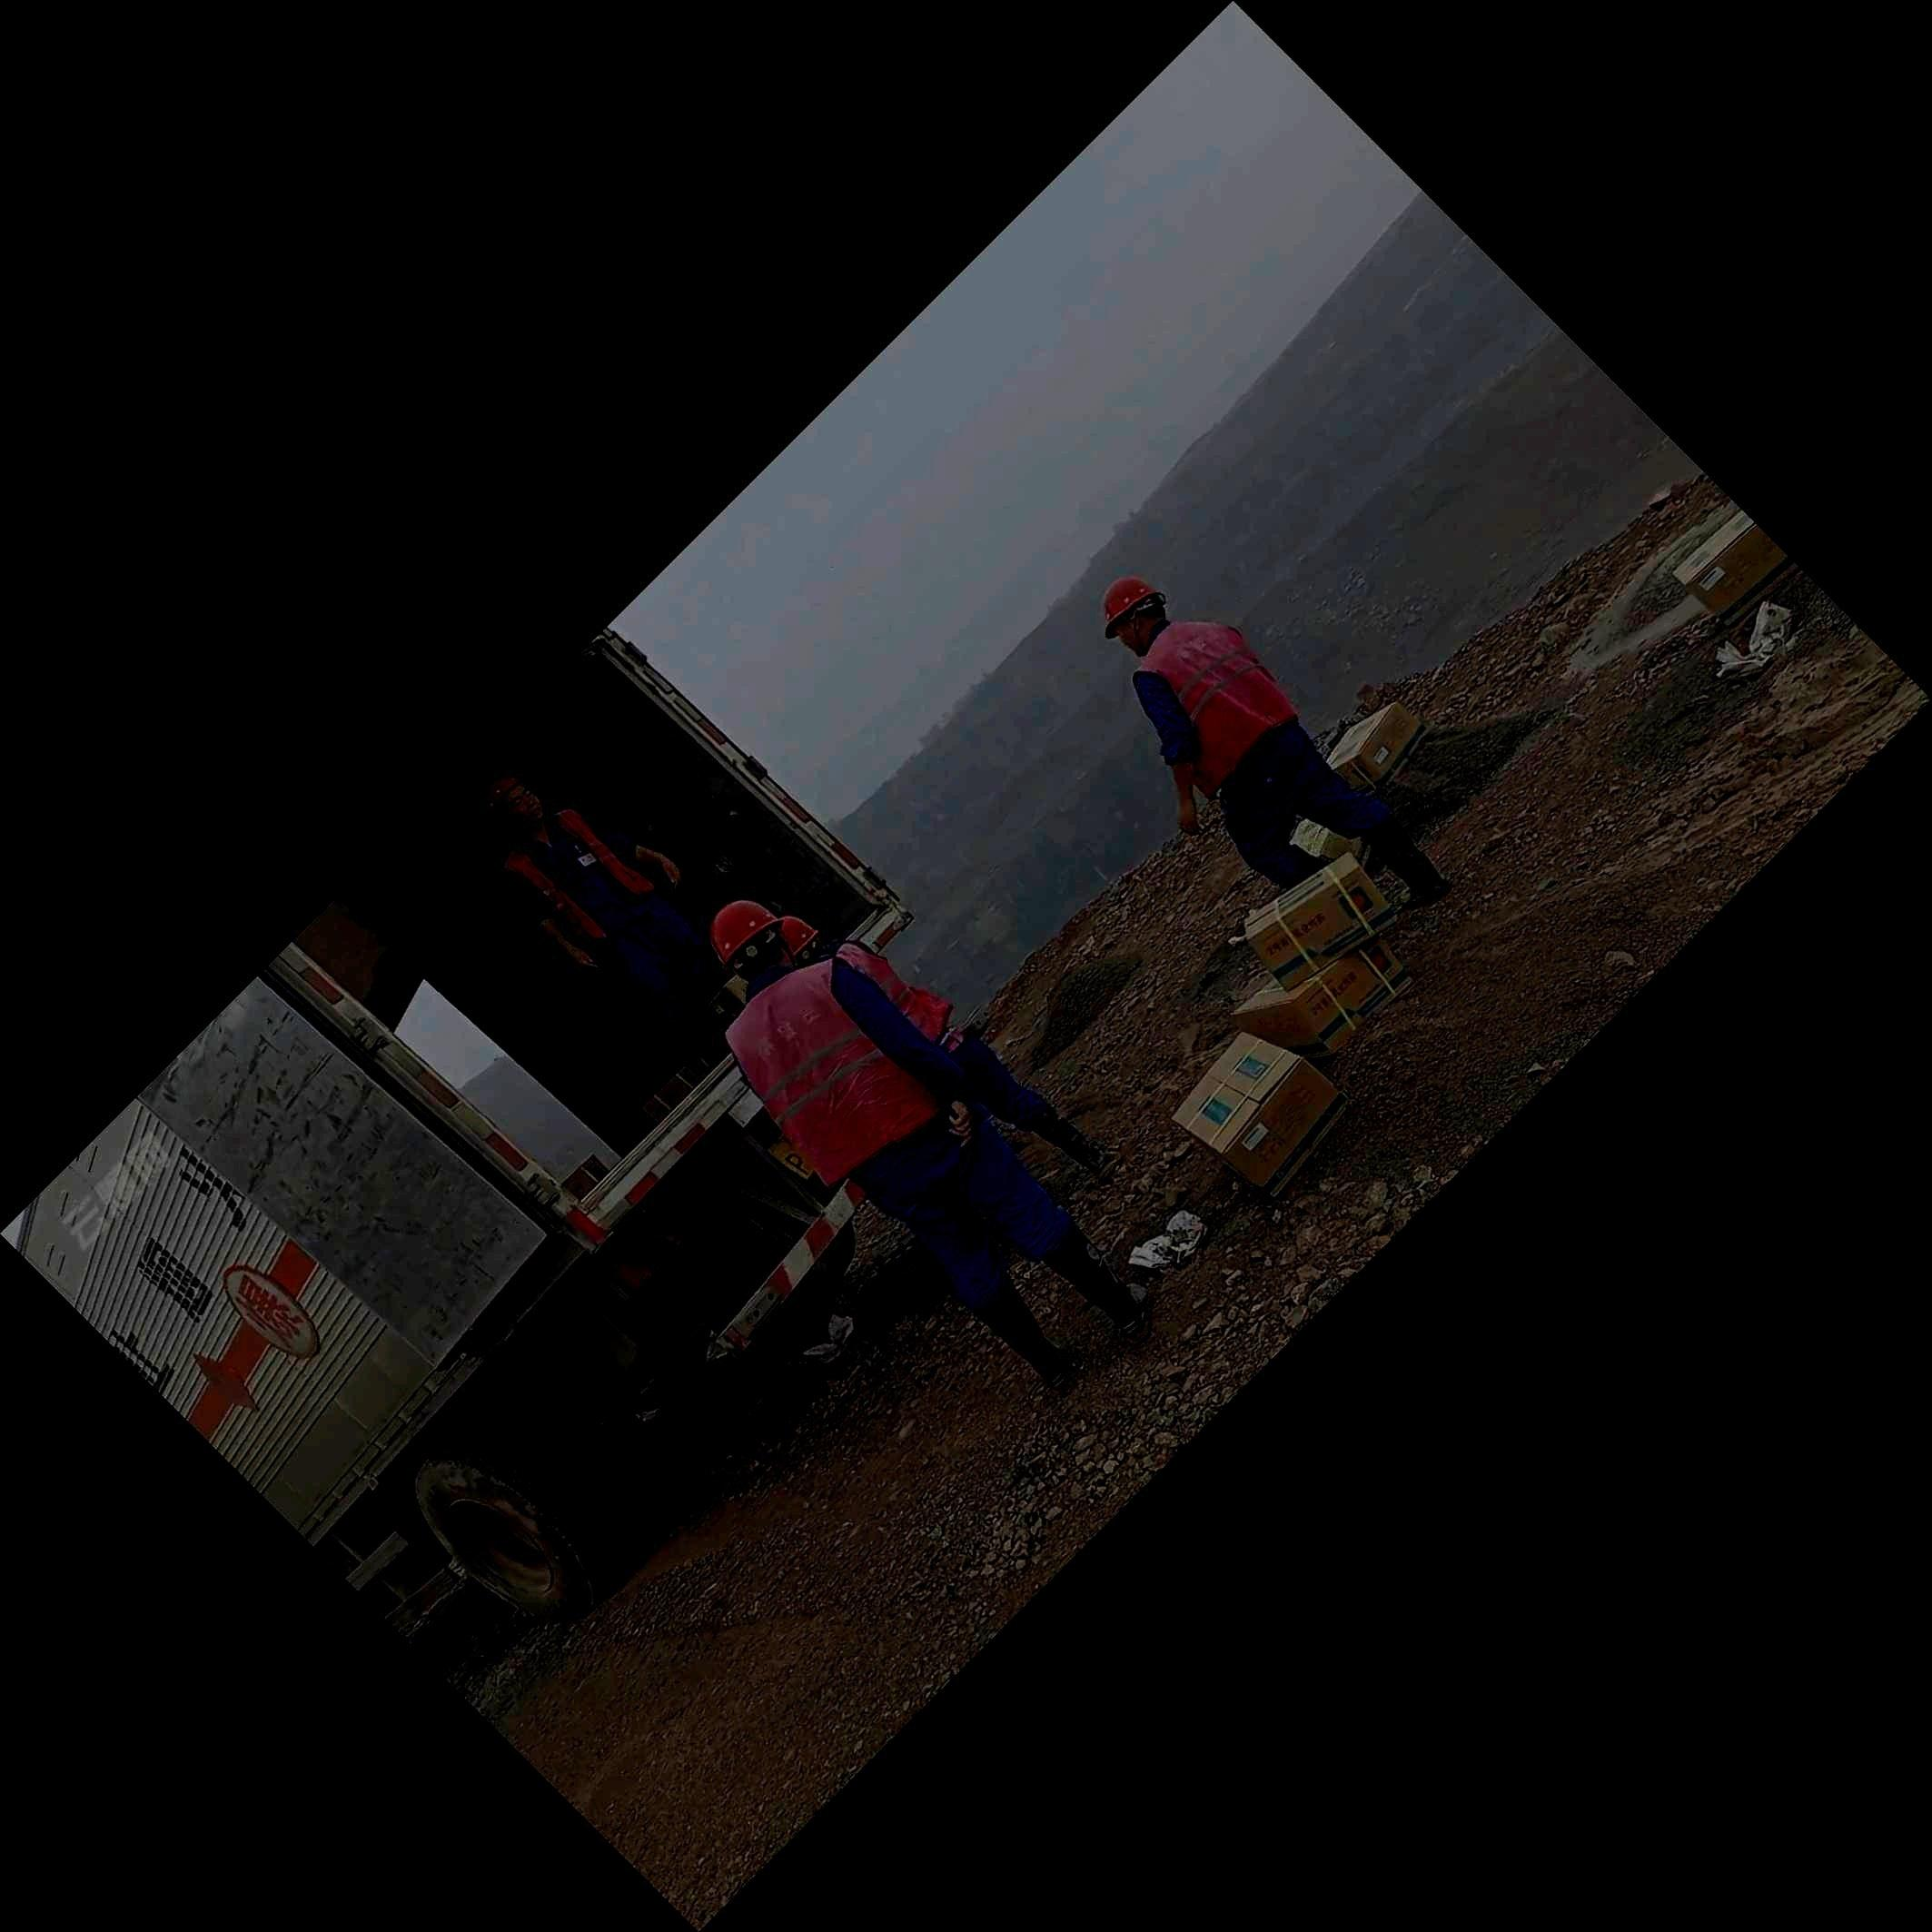helmet: (709, 899, 796, 980), (1100, 573, 1168, 658), (777, 916, 819, 966)
